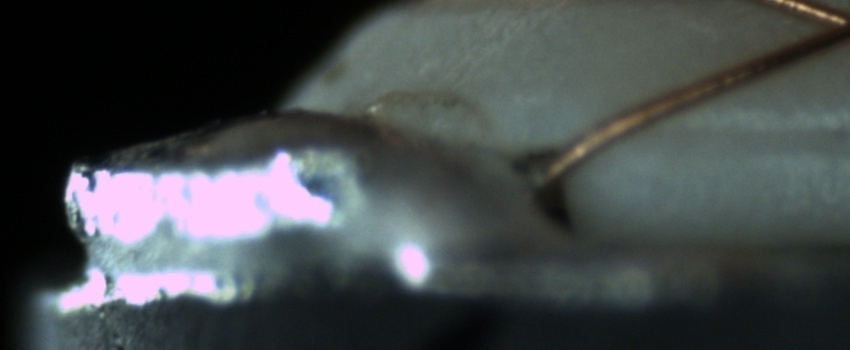DL: (641, 93, 841, 167)
